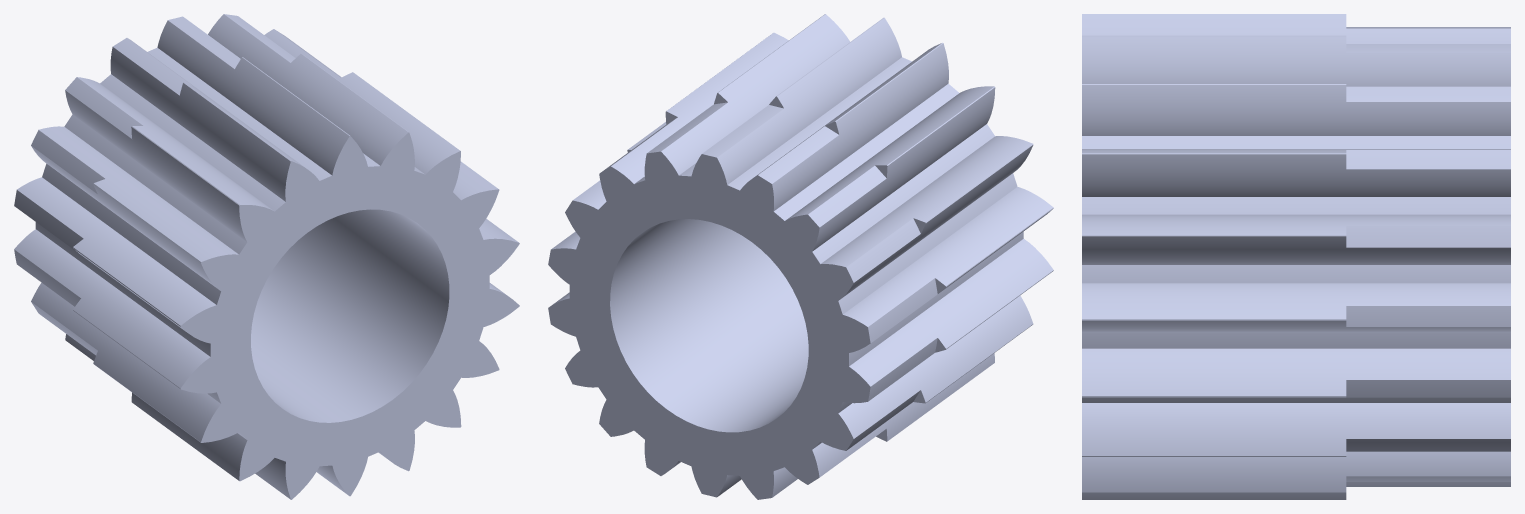
File: REV_21_2103_A01_1_REV_21_2103_P01_1_solid1.obj
3 views of the same model, side by side, from view 1: azimuth 30°, elevation 25°; view 2: azimuth 150°, elevation 25°; view 3: azimuth 270°, elevation 25° (orthographic). The views are drawn at different scales.
Parts seen in each view (by area): view 1: mesh24243, mesh24242, mesh24284, mesh24341, mesh24335, mesh24274, mesh24263, mesh24290, mesh24278, mesh24268, mesh24346, mesh24258 (+16 smaller); view 2: mesh24349, mesh24242, mesh24284, mesh24341, mesh24335, mesh24274, mesh24263, mesh24290, mesh24278, mesh24268, mesh24346, mesh24258 (+15 smaller); view 3: mesh24331, mesh24336, mesh24340, mesh24321, mesh24345, mesh24325, mesh24315, mesh24350, mesh24264, mesh24244, mesh24245, mesh24351 (+18 smaller).
Boxes of the visible parts, x1,y1,x2,y2 form: mesh24243: (180,132,519,499); mesh24242: (251,210,449,422); mesh24284: (14,229,210,388); mesh24341: (157,20,349,175); mesh24335: (208,14,408,165); mesh24274: (17,177,216,325); mesh24263: (110,47,290,201); mesh24290: (31,282,220,441); mesh24278: (39,126,238,261); mesh24268: (65,90,246,241); mesh24346: (264,29,459,174); mesh24258: (64,114,247,254); mesh24349: (548,151,870,499); mesh24242: (610,220,808,432); mesh24284: (849,239,1053,386); mesh24341: (717,18,901,184); mesh24335: (661,14,849,175); mesh24274: (843,187,1053,326); mesh24263: (772,43,948,210); mesh24290: (838,295,1033,438); mesh24278: (821,136,1032,266); mesh24268: (812,87,995,251); mesh24346: (611,32,788,183); mesh24258: (812,124,994,263); mesh24331: (1082,403,1510,456); mesh24336: (1082,85,1510,135); mesh24340: (1082,36,1510,86); mesh24321: (1082,348,1510,396); mesh24345: (1082,154,1510,196); mesh24325: (1082,451,1510,492); mesh24315: (1082,283,1510,319); mesh24350: (1082,236,1510,264); mesh24264: (1082,14,1510,43); mesh24244: (1082,265,1510,283); mesh24245: (1082,197,1510,214); mesh24351: (1082,214,1510,234).
Bounding box in the file's own units: 0.0141 × 0.0143 × 0.0126.
